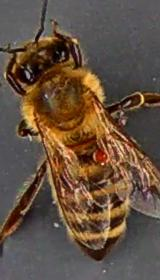varroa_mite: (84, 146, 117, 168)
